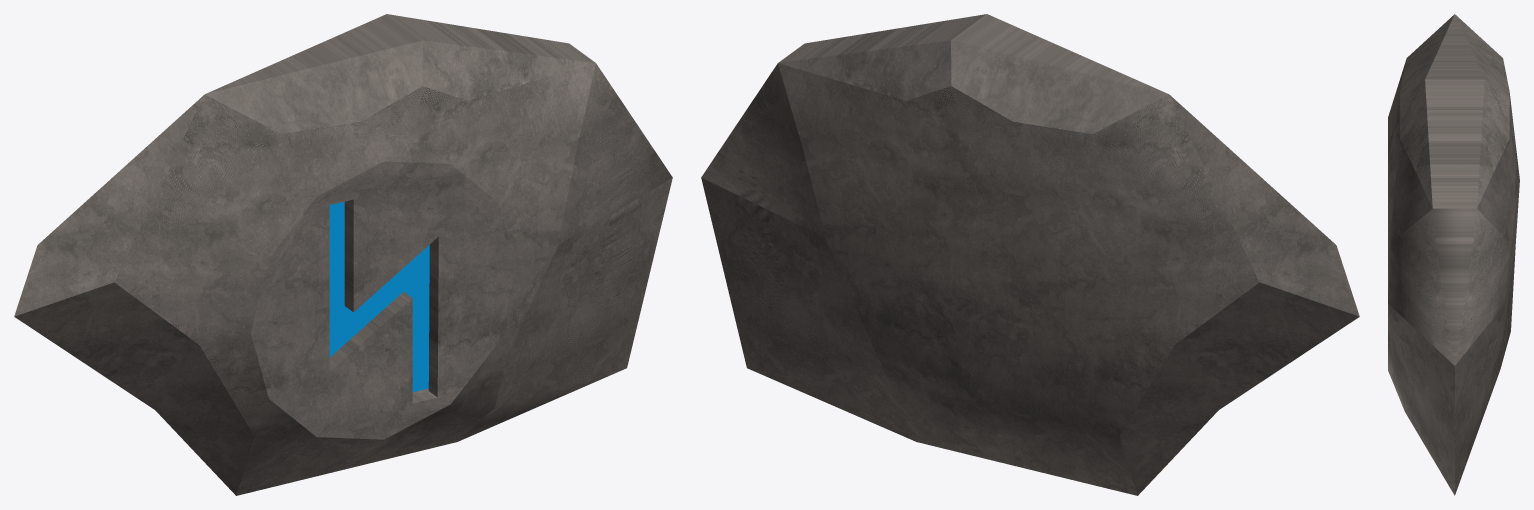
The model's file is Acceleration_Heimdall.fbx.
3 renders of one model, left to right at view 1: azimuth 30°, elevation 25°; view 2: azimuth 150°, elevation 25°; view 3: azimuth 270°, elevation 25°, orthographic. The views are drawn at different scales.
Parts seen in each view (by area): view 1: Acceleration_S Rune; view 2: Acceleration_S Rune; view 3: Acceleration_S Rune.
Part boxes in pixels (box(x1,y1,x2,y2)): Acceleration_S Rune: box(14, 14, 672, 495); Acceleration_S Rune: box(701, 14, 1359, 495); Acceleration_S Rune: box(1388, 14, 1519, 495).
Bounding box in the file's own units: 67.57 × 41.92 × 14.18.
1 material, 1 textured.
